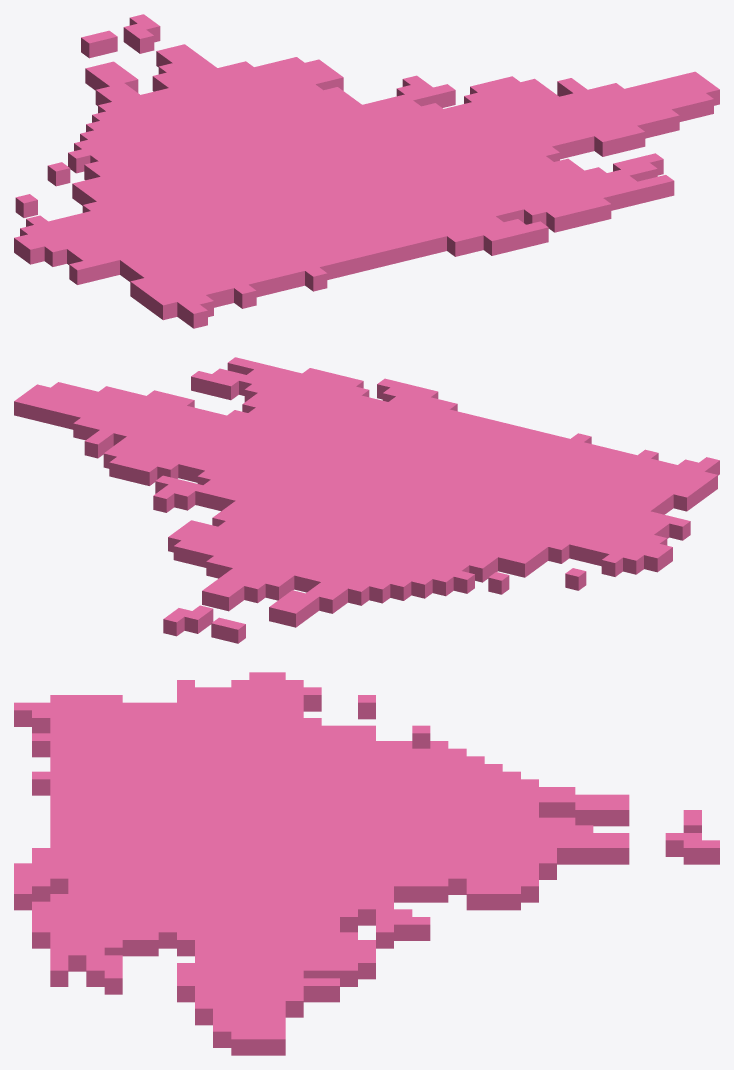
File: Sabah.fbx
3 renders of one model, top to bottom at view 1: azimuth 30°, elevation 25°; view 2: azimuth 150°, elevation 25°; view 3: azimuth 270°, elevation 25°, orthographic. The views are drawn at different scales.
Visible parts, largest first — view 1: Sabah; view 2: Sabah; view 3: Sabah.
Part boxes in pixels (left/top/right/bottom): Sabah: left=14, top=14, right=719, bottom=328; Sabah: left=14, top=357, right=719, bottom=643; Sabah: left=14, top=672, right=719, bottom=1055.
Bounding box in the file's own units: 48 × 1 × 39.
1 material, 1 textured.
